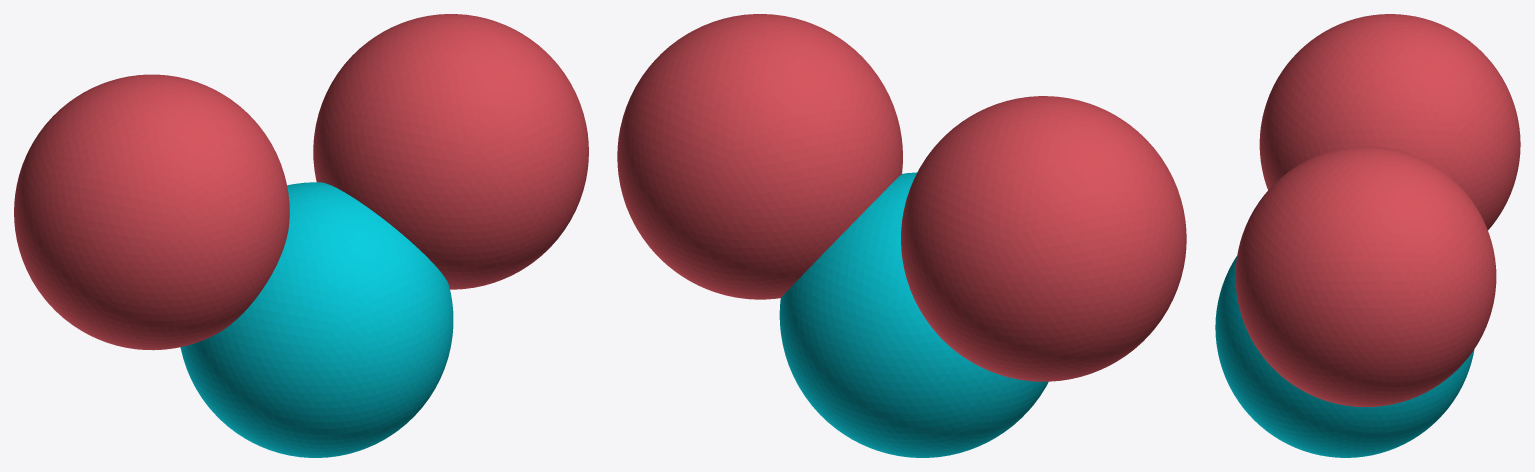
The picture shows the model from 3 angles, left to right: view 1: azimuth 30°, elevation 25°; view 2: azimuth 150°, elevation 25°; view 3: azimuth 270°, elevation 25°; orthographic projection. The views are drawn at different scales.
Size of the model in its own units: 0.088 by 0.06 by 0.0468.
